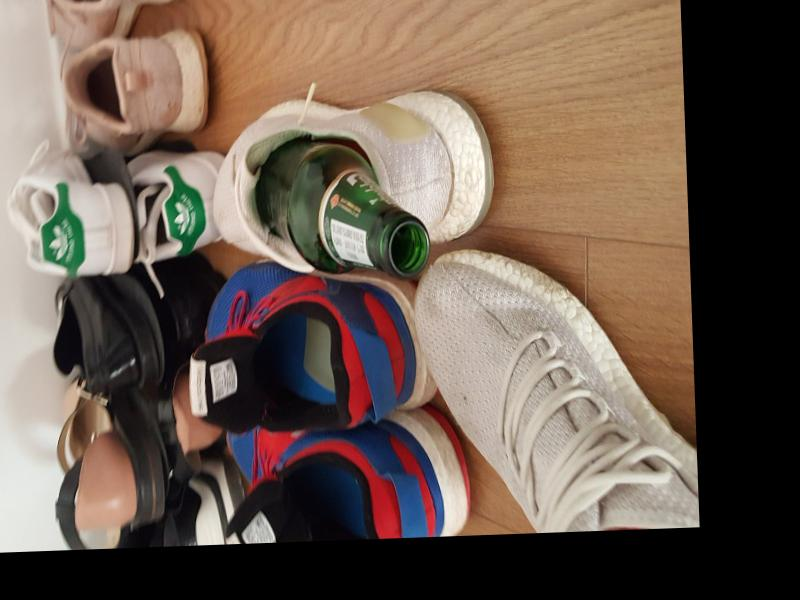Beer: (256, 136, 430, 281)
